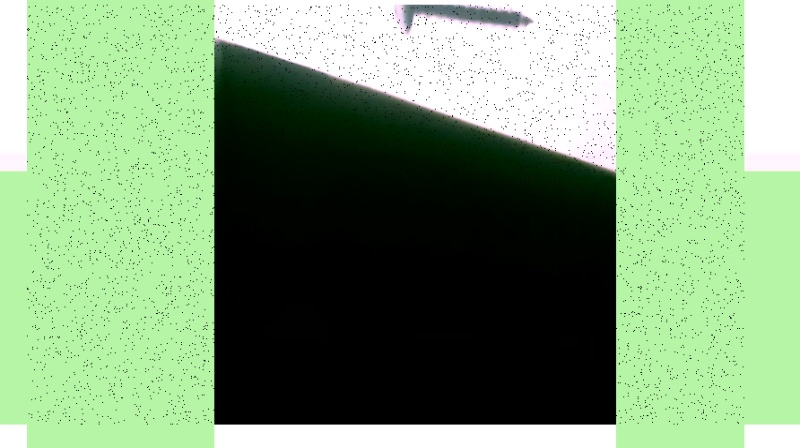S003: (391, 0, 534, 38)
